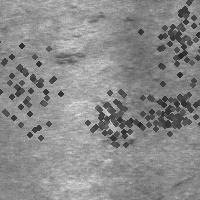rolled-in_scale: (0, 28, 80, 140), (70, 71, 156, 157), (130, 0, 200, 88), (130, 67, 200, 145), (100, 69, 158, 148), (54, 9, 108, 66)
